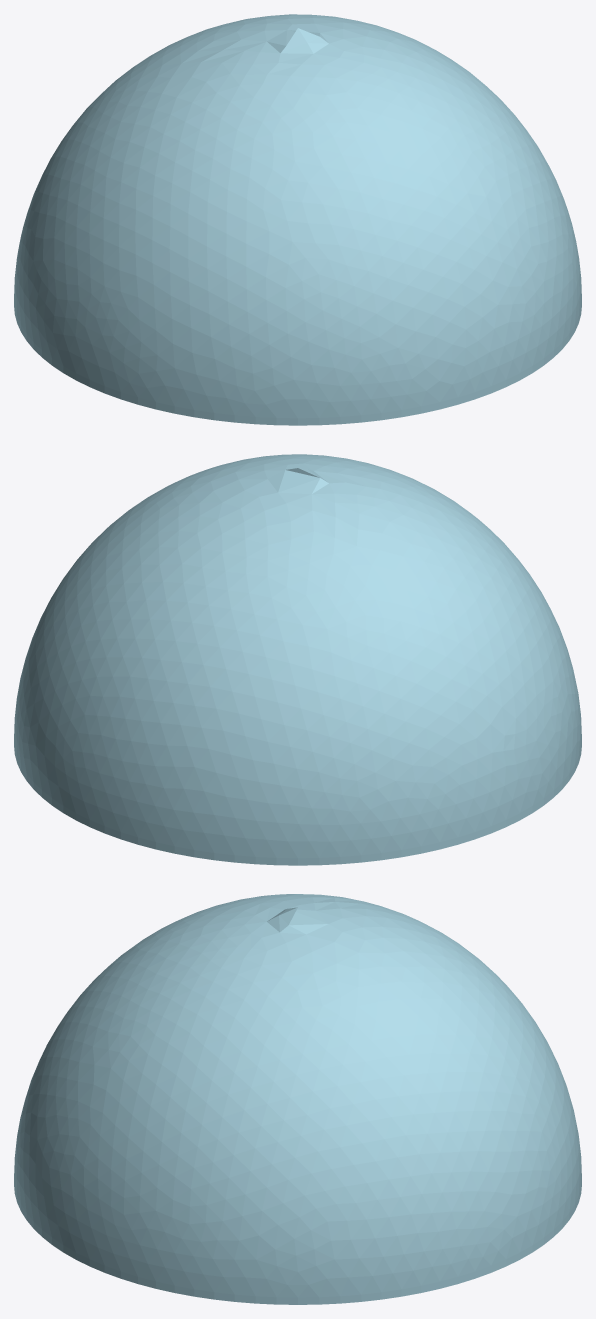
The model's file is quick_test.obj.
3 renders of one model, top to bottom at view 1: azimuth 30°, elevation 25°; view 2: azimuth 150°, elevation 25°; view 3: azimuth 270°, elevation 25°, orthographic.
Parts seen in each view (by area): view 1: grp1; view 2: grp1; view 3: grp1.
Boxes of the visible parts, box(x1,y1,x2,y2) form: grp1: box(14, 14, 581, 425); grp1: box(14, 454, 581, 865); grp1: box(14, 894, 581, 1304).
Size of the model in its own units: 0.14 by 0.0755 by 0.14.
